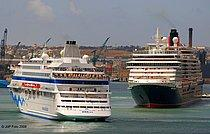Ship: (8, 54, 114, 121), (129, 47, 205, 110)
